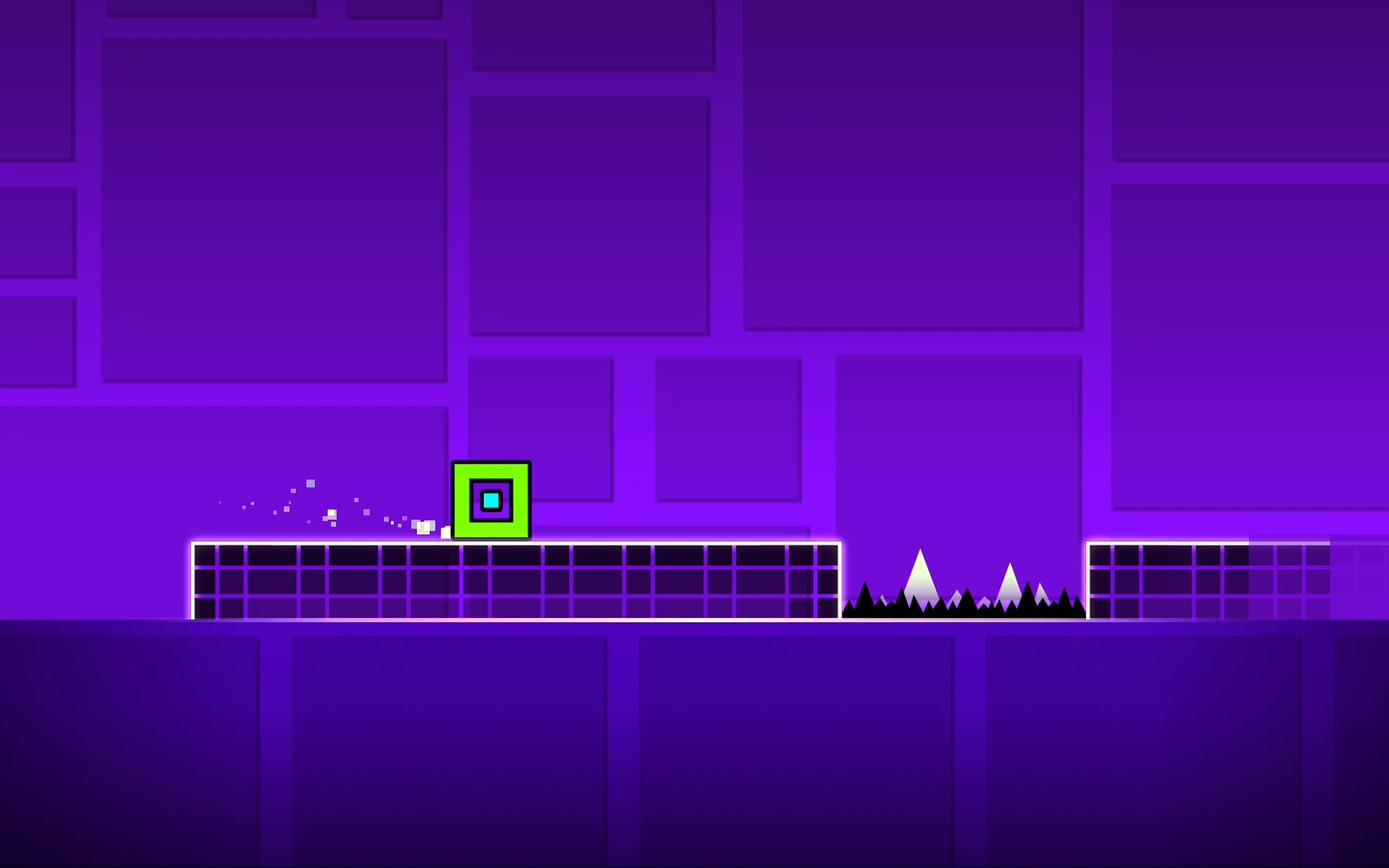Block2: (192, 541, 842, 622), (1088, 536, 1389, 623)
Player: (451, 461, 530, 540)
Spike3: (844, 585, 1085, 620)
